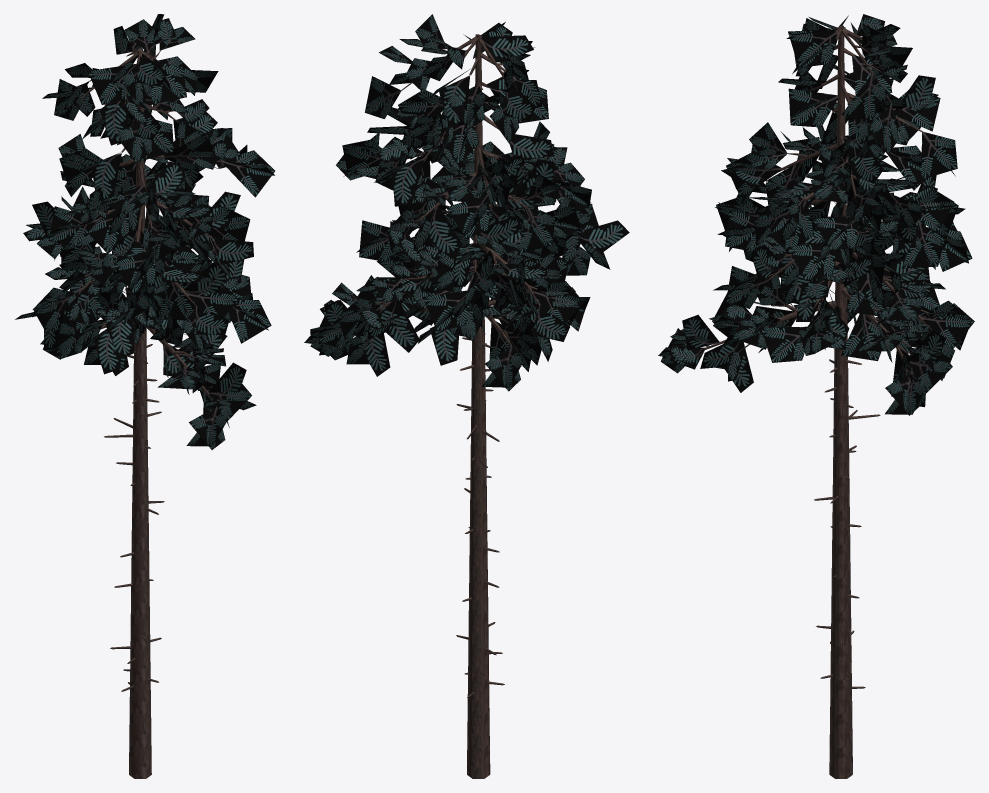
The model's file is Pine_02.fbx.
The picture shows the model from 3 angles, left to right: view 1: azimuth 30°, elevation 25°; view 2: azimuth 150°, elevation 25°; view 3: azimuth 270°, elevation 25°; orthographic projection. The views are drawn at different scales.
Visible parts, largest first — view 1: LOD0; view 2: LOD0; view 3: LOD0.
Boxes of the visible parts, box(x1,y1,x2,y2) form: LOD0: box(15, 14, 274, 778); LOD0: box(304, 14, 629, 778); LOD0: box(658, 14, 974, 778).
Size of what is drawn, in the model's own units: 17.49 by 51.52 by 19.26.
